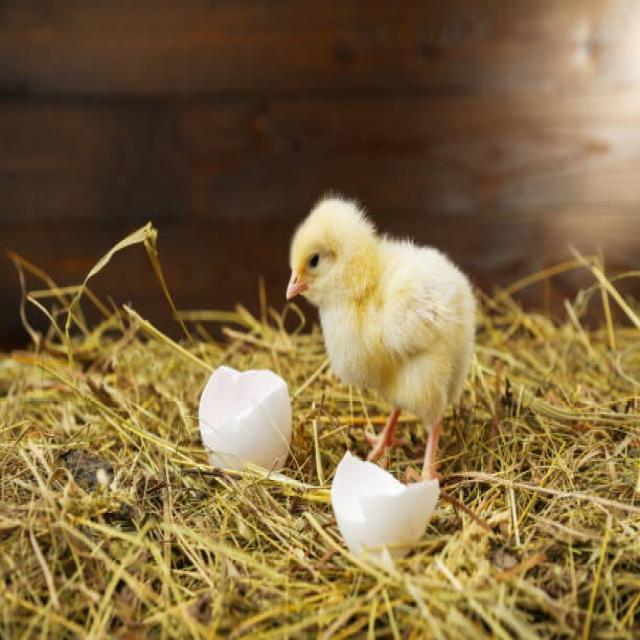poussin: (286, 195, 476, 482)
